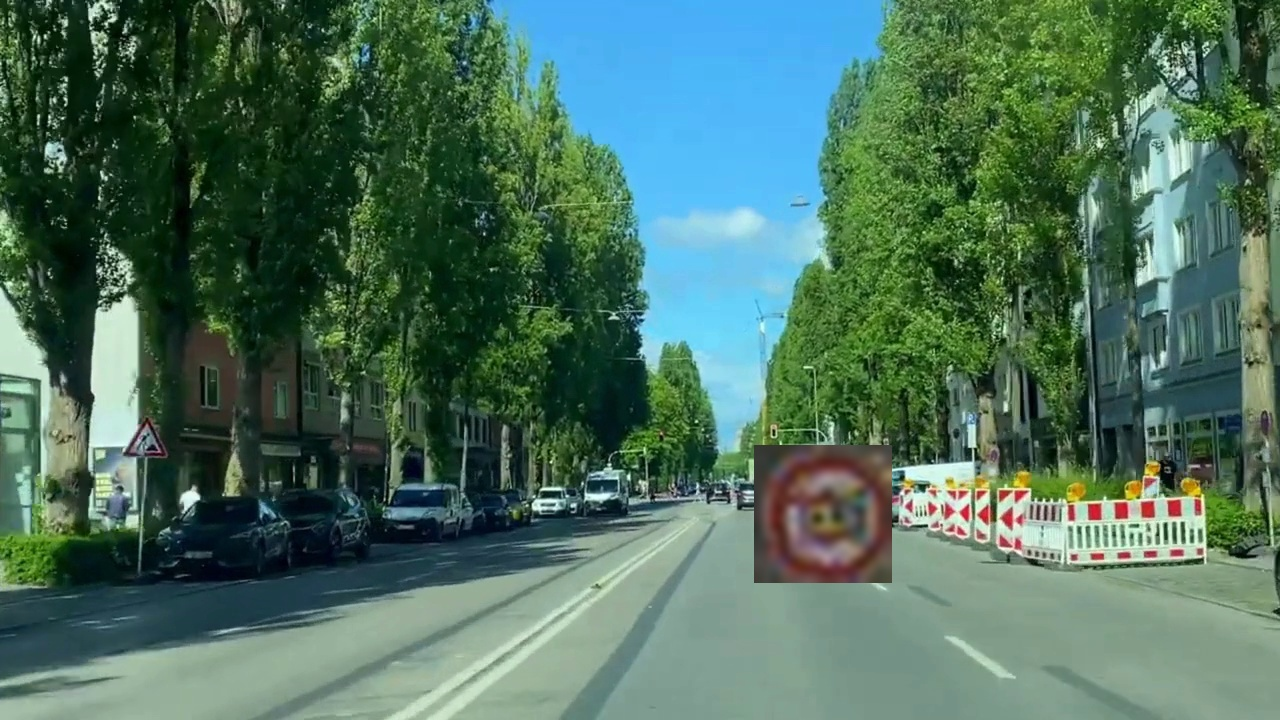Speed 100: (754, 445, 892, 583)
